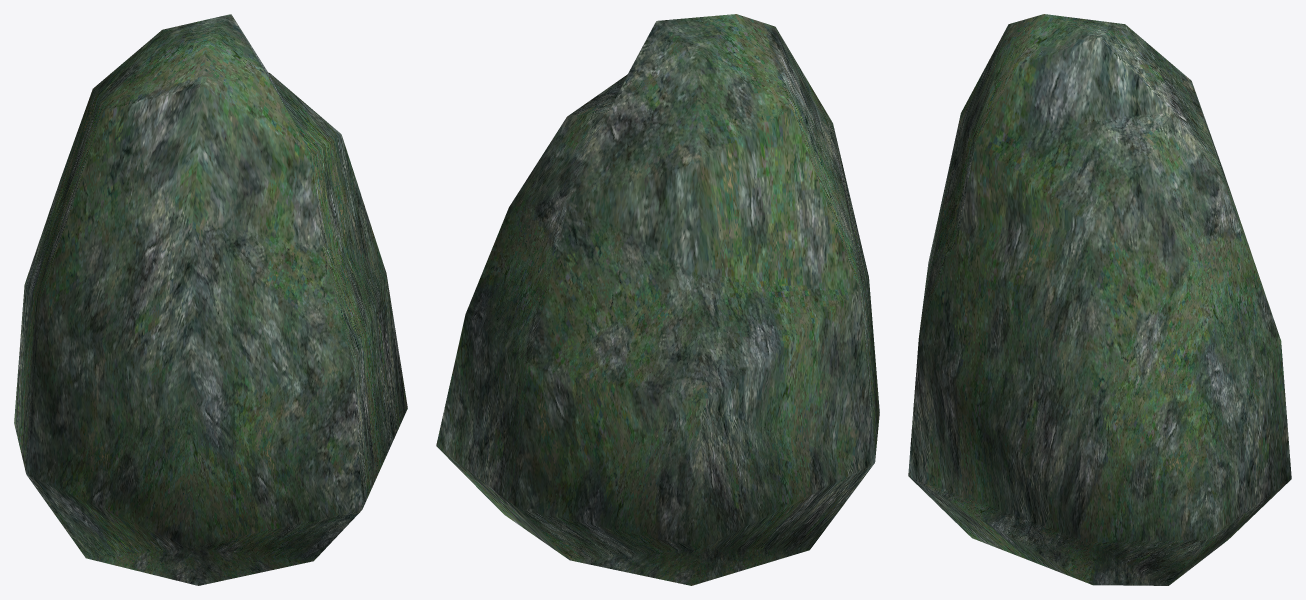
Rendered from rock_mossy_bluebig_l2.fbx.
3 views of the same model, side by side, from view 1: azimuth 30°, elevation 25°; view 2: azimuth 150°, elevation 25°; view 3: azimuth 270°, elevation 25° (orthographic). The views are drawn at different scales.
Visible parts, largest first — view 1: mesh_node; view 2: mesh_node; view 3: mesh_node.
Part boxes in pixels (x1=…): mesh_node: x1=14, y1=14, x2=407, y2=585; mesh_node: x1=436, y1=14, x2=879, y2=585; mesh_node: x1=908, y1=14, x2=1291, y2=585.
Bounding box in the file's own units: 6.78 × 8.55 × 6.
Materials: 1 (1 with a texture image).
